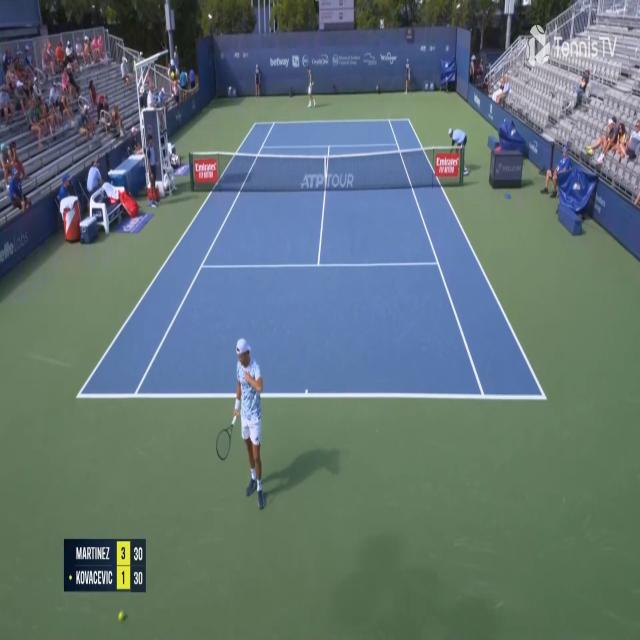tennis-player: (216, 330, 268, 511), (304, 64, 316, 109)
